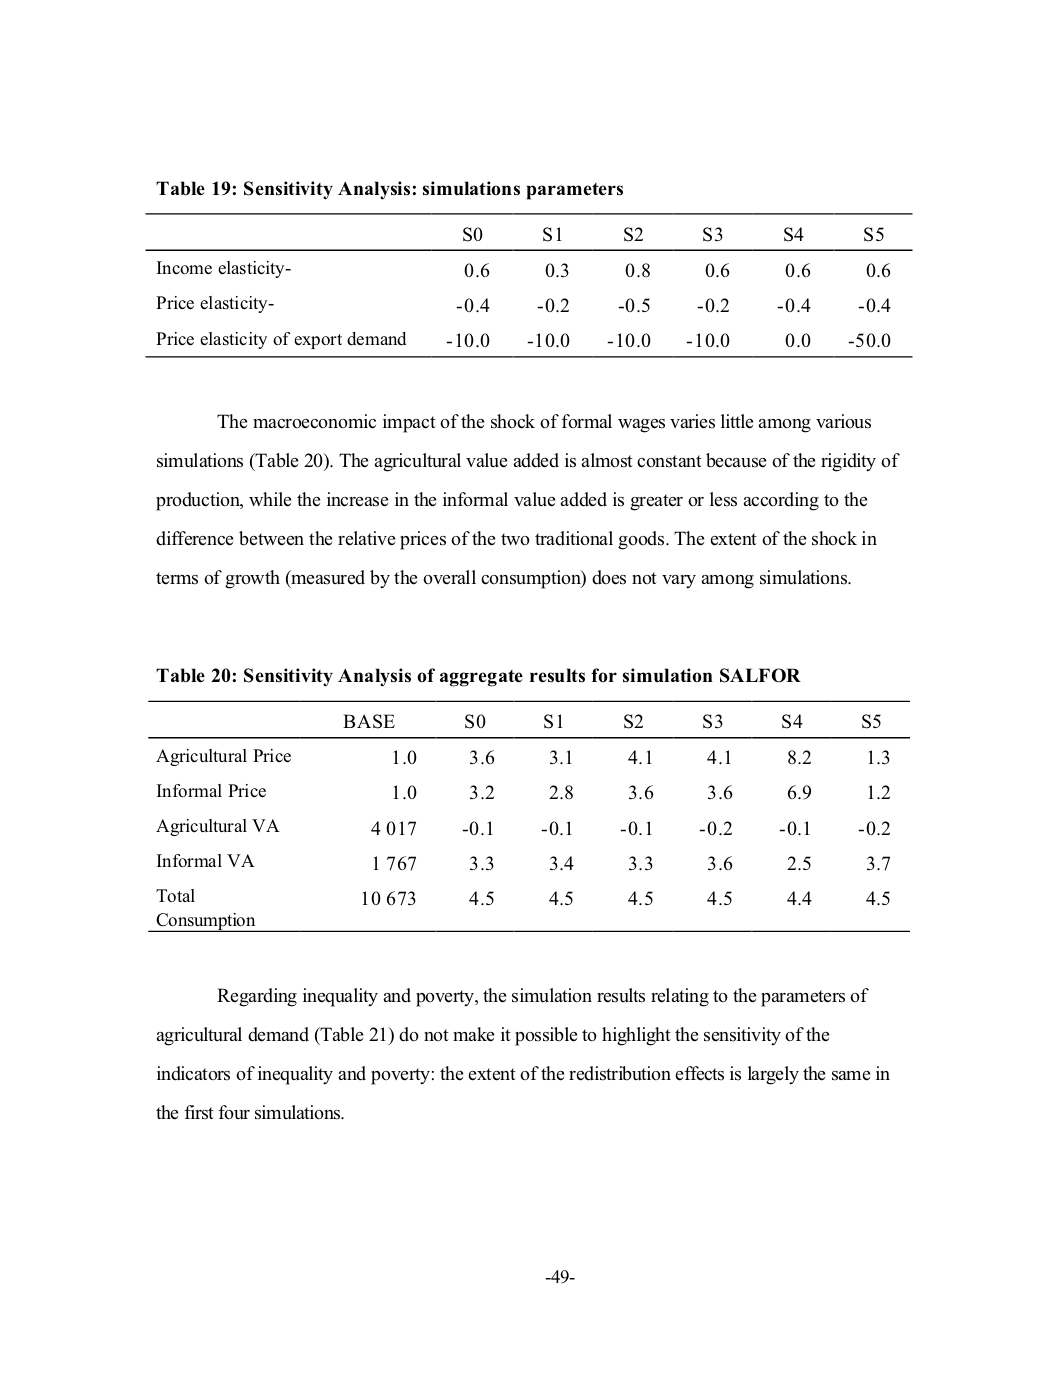Table: (148, 700, 909, 931), (145, 213, 912, 357)
